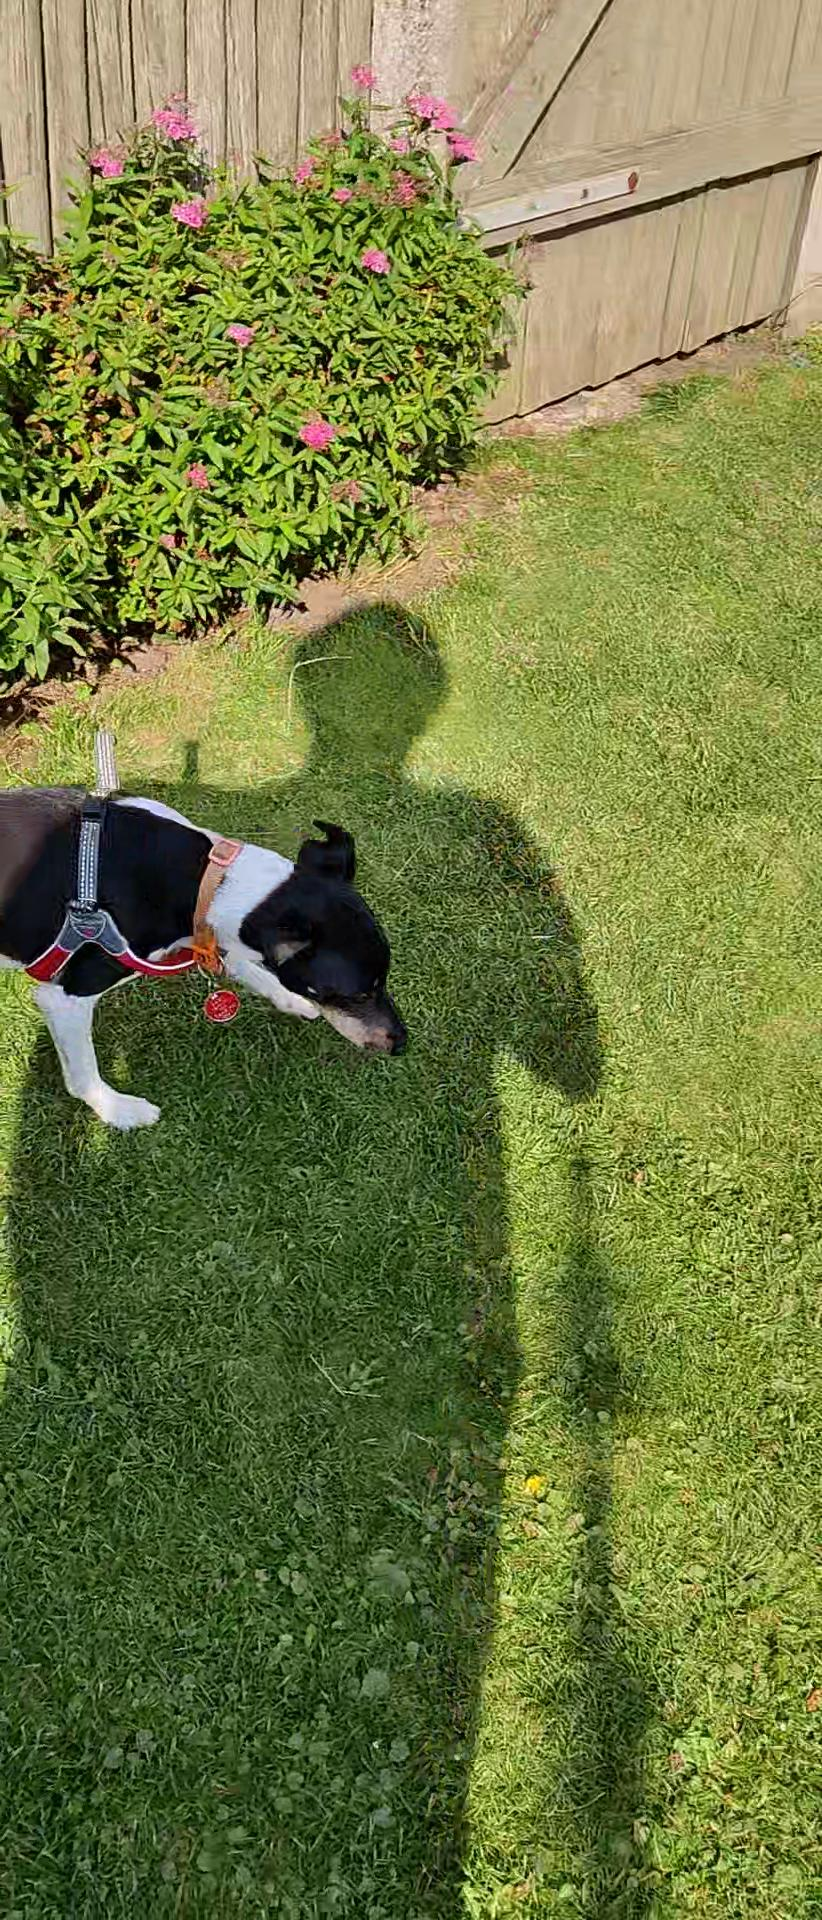Dog: (0, 730, 436, 1171)
